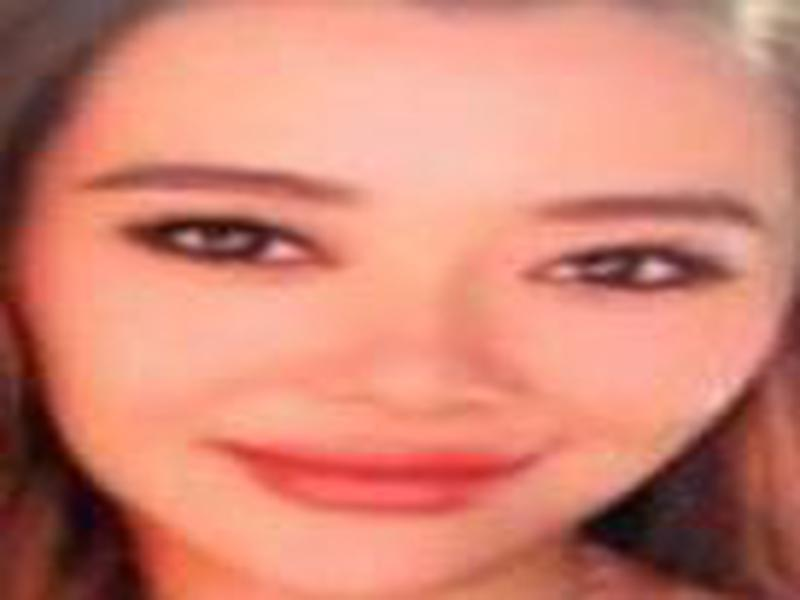without_mask: (38, 38, 765, 587)
